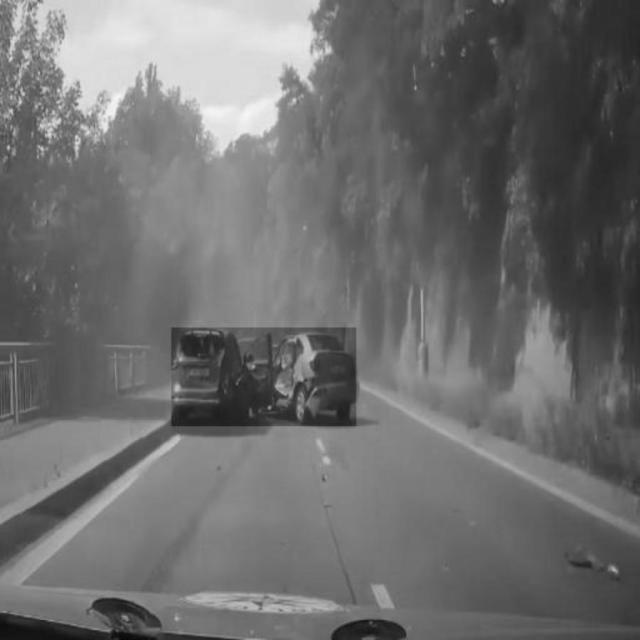accident: (172, 328, 357, 426)
